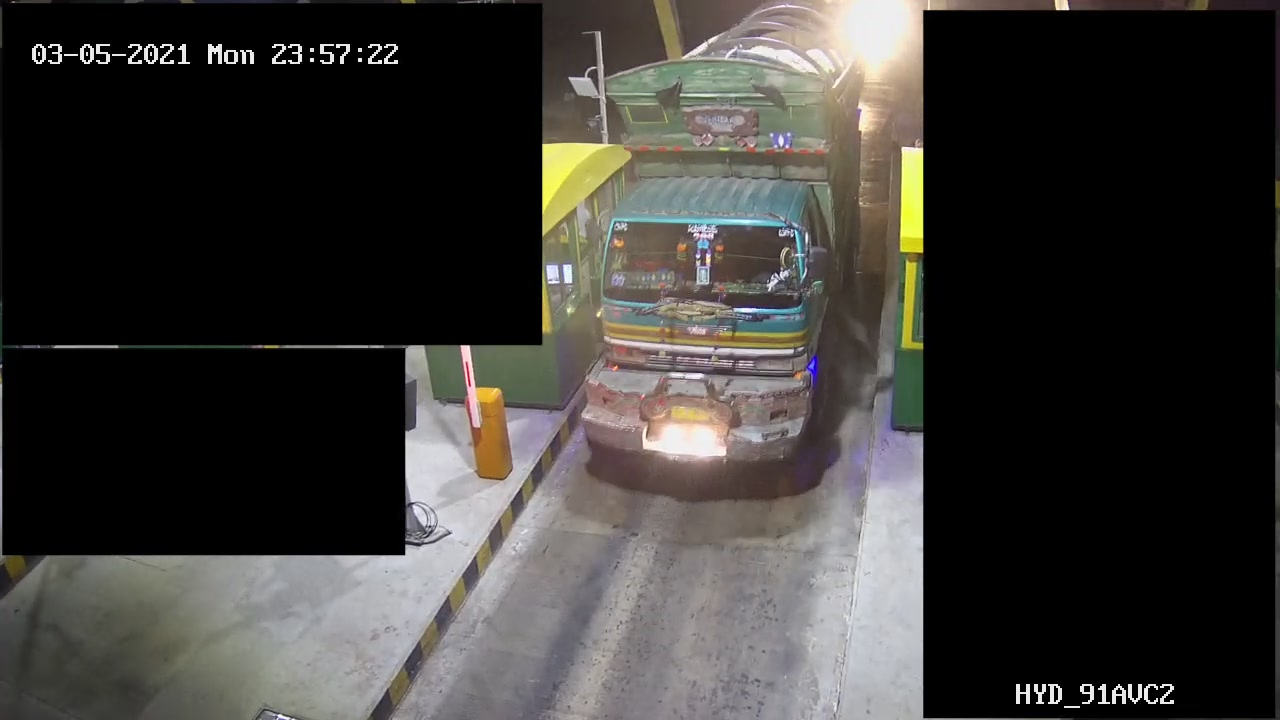F5: (578, 1, 874, 501)
